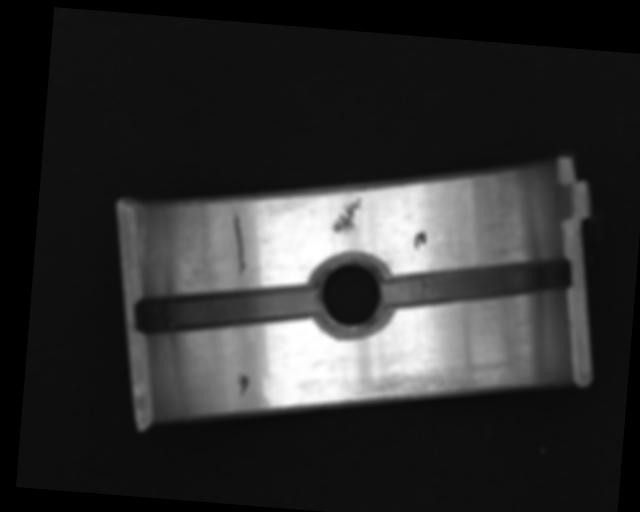blot: (411, 229, 428, 252)
bruise: (332, 195, 363, 235), (236, 373, 249, 397)
gap: (381, 245, 572, 321), (135, 270, 318, 345)
hole: (308, 254, 393, 341)
nick: (228, 206, 250, 276)
scratch: (351, 350, 511, 413)
